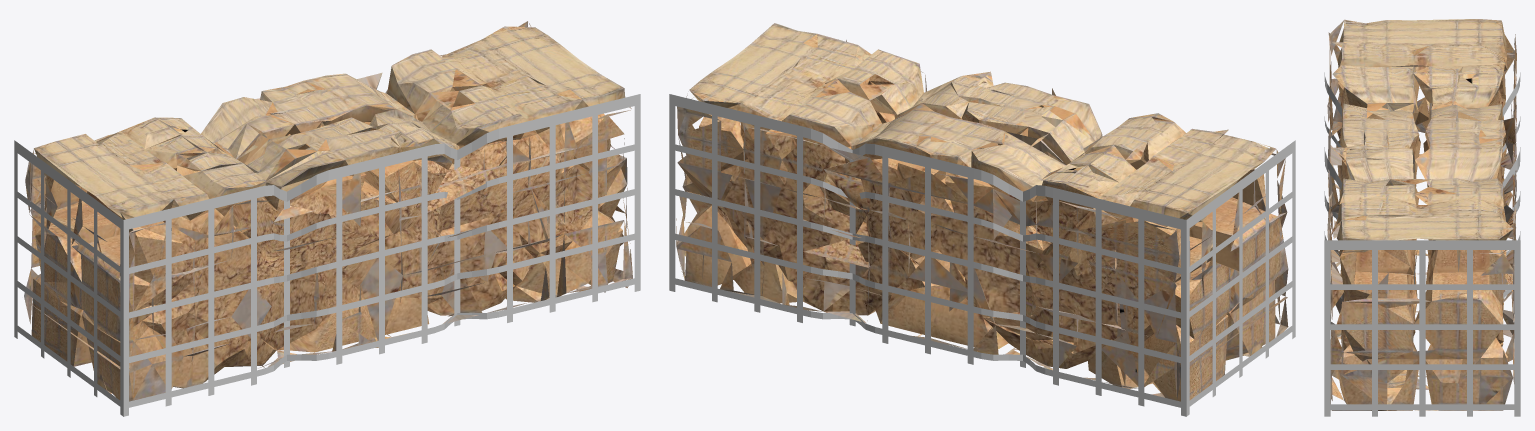
The model's file is hesco.glb.
The picture shows the model from 3 angles, left to right: view 1: azimuth 30°, elevation 25°; view 2: azimuth 150°, elevation 25°; view 3: azimuth 270°, elevation 25°; orthographic projection. The views are drawn at different scales.
Visible parts, largest first — view 1: wall, metal, roof; view 2: wall, roof, metal; view 3: wall, roof, metal.
Boxes of the visible parts, x1,y1,x2,y2 form: wall: (24, 21, 632, 401); metal: (14, 94, 640, 416); roof: (34, 26, 631, 282); wall: (676, 34, 1288, 401); roof: (689, 23, 1275, 297); metal: (669, 94, 1295, 416); wall: (1327, 20, 1517, 410); roof: (1327, 19, 1516, 301); metal: (1324, 72, 1520, 416).
Bounding box in the file's own units: 3.04 × 1.1 × 1.11.
1 material, 1 textured.
